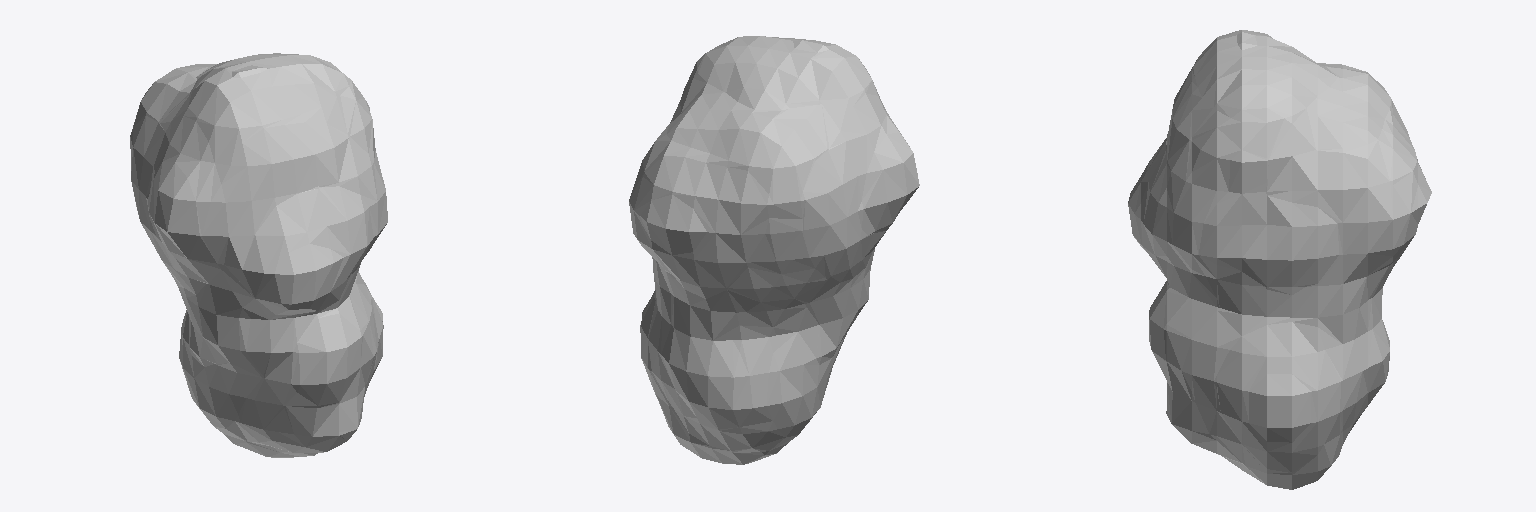
Rendered from 1qam_cms.obj.
The picture shows the model from 3 angles: view 1: azimuth 30°, elevation 25°; view 2: azimuth 150°, elevation 25°; view 3: azimuth 270°, elevation 25°; orthographic projection.
Bounding box in the file's own units: 48.19 × 78.82 × 52.66.